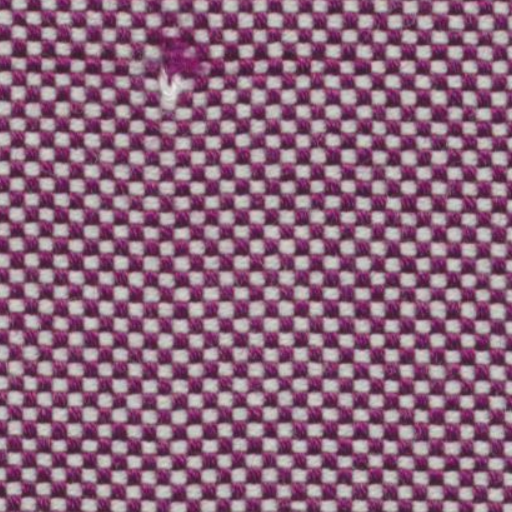MianQiu: (136, 22, 213, 112)
